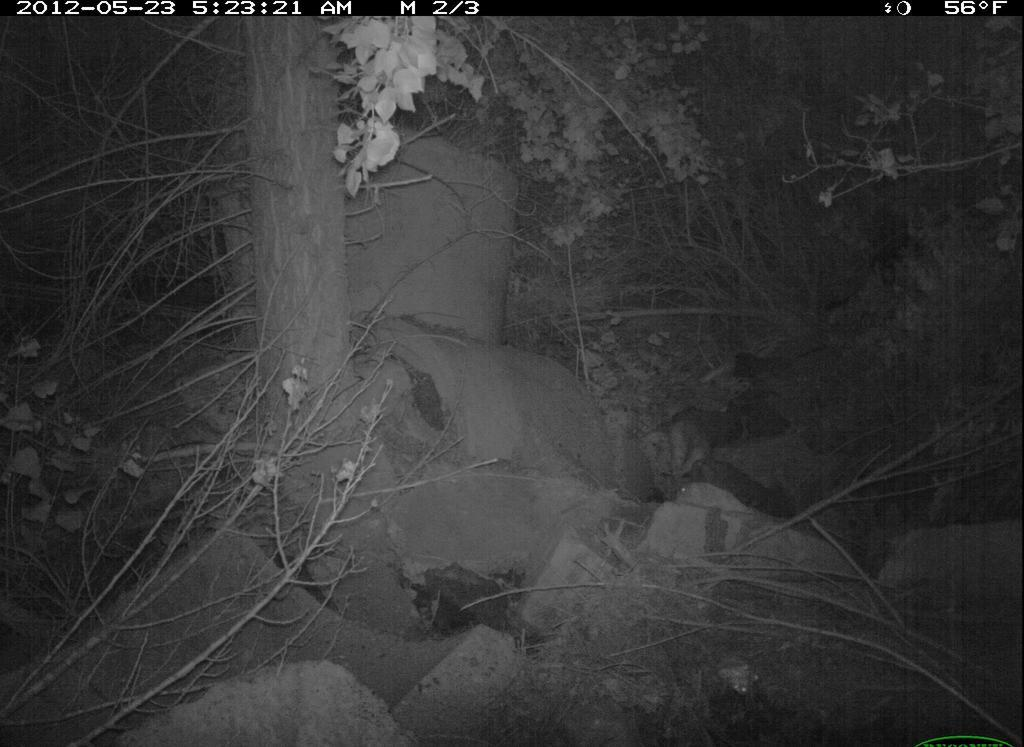bobcat: (663, 396, 755, 487)
